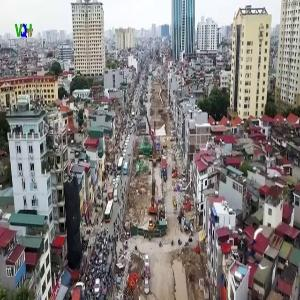drone: (235, 233, 277, 275)
